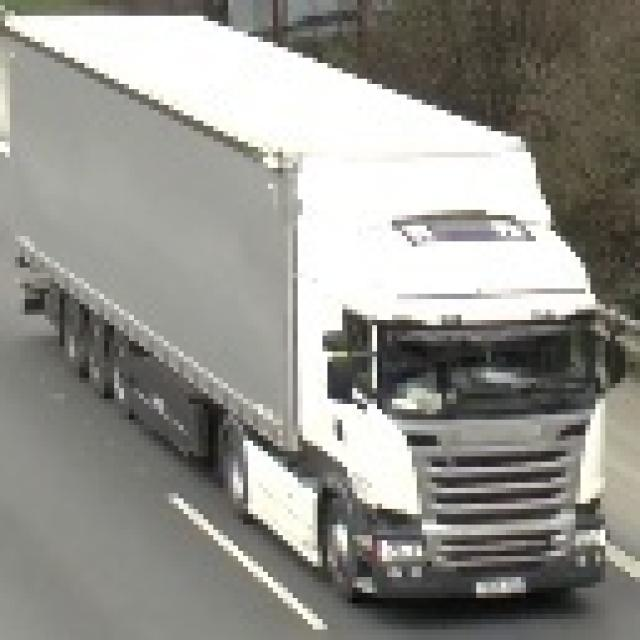TRUCK: (0, 39, 620, 622)
